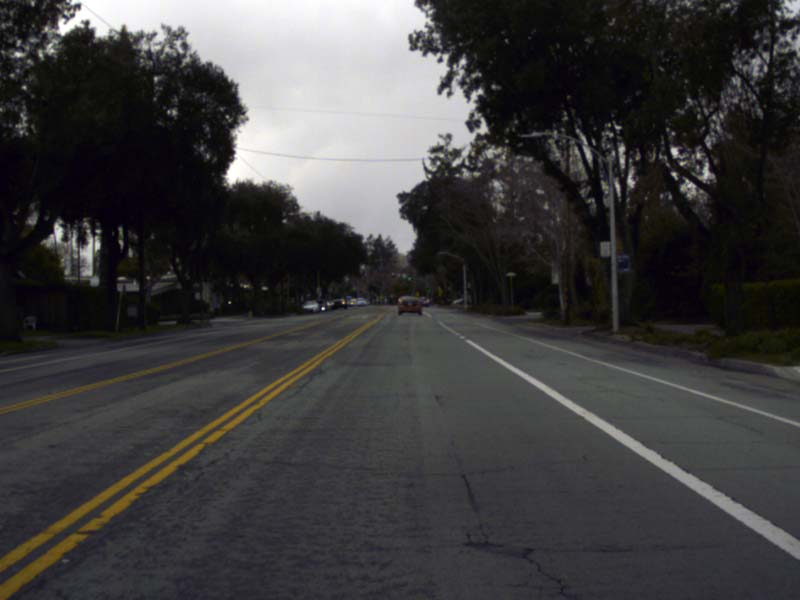Green: (352, 284, 356, 291), (407, 274, 410, 280), (427, 287, 429, 291)
Red: (391, 272, 394, 278)
